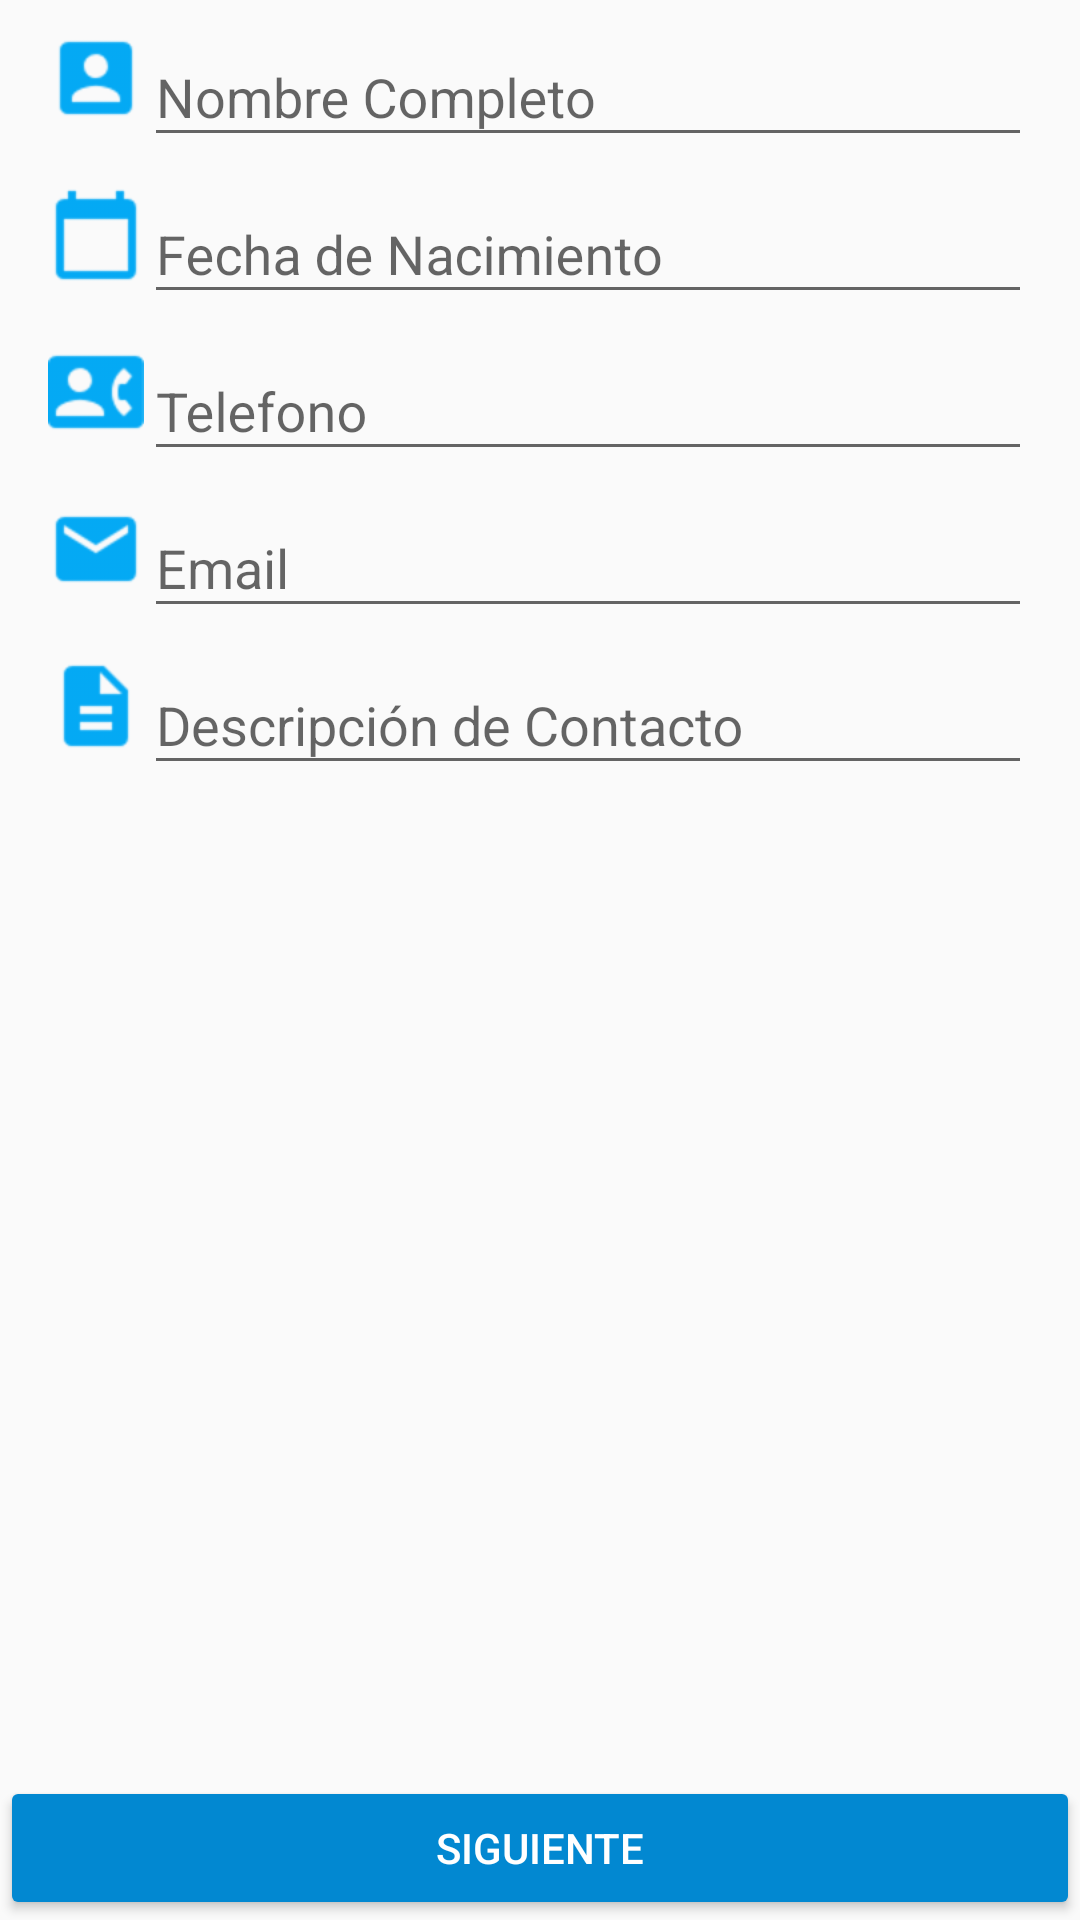

Icon bounding boxes for this 1080px x 1920px phone screenshot, format box=[x1, y1, x2, y2]:
account box: box=[59, 41, 133, 115]
calendar: box=[55, 190, 137, 280]
contact phone: box=[48, 355, 144, 429]
description: box=[63, 665, 129, 747]
